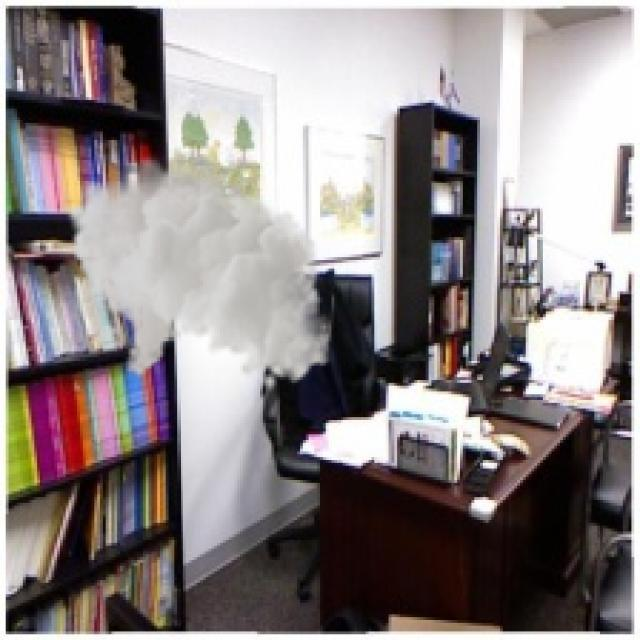Smoke: (66, 146, 332, 392)
